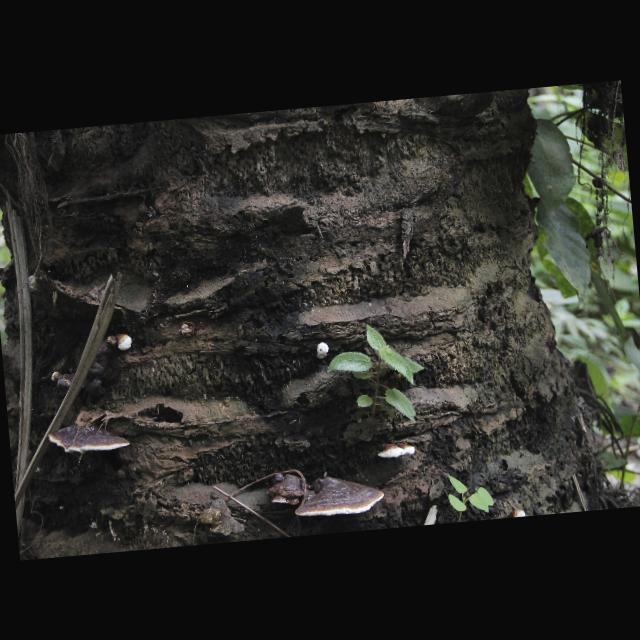ganoderma: (292, 473, 388, 521), (54, 335, 120, 398), (47, 417, 132, 459), (264, 471, 309, 509), (376, 441, 418, 462)
primordium: (115, 333, 134, 353), (315, 343, 331, 361), (27, 275, 39, 294), (50, 371, 62, 382)
